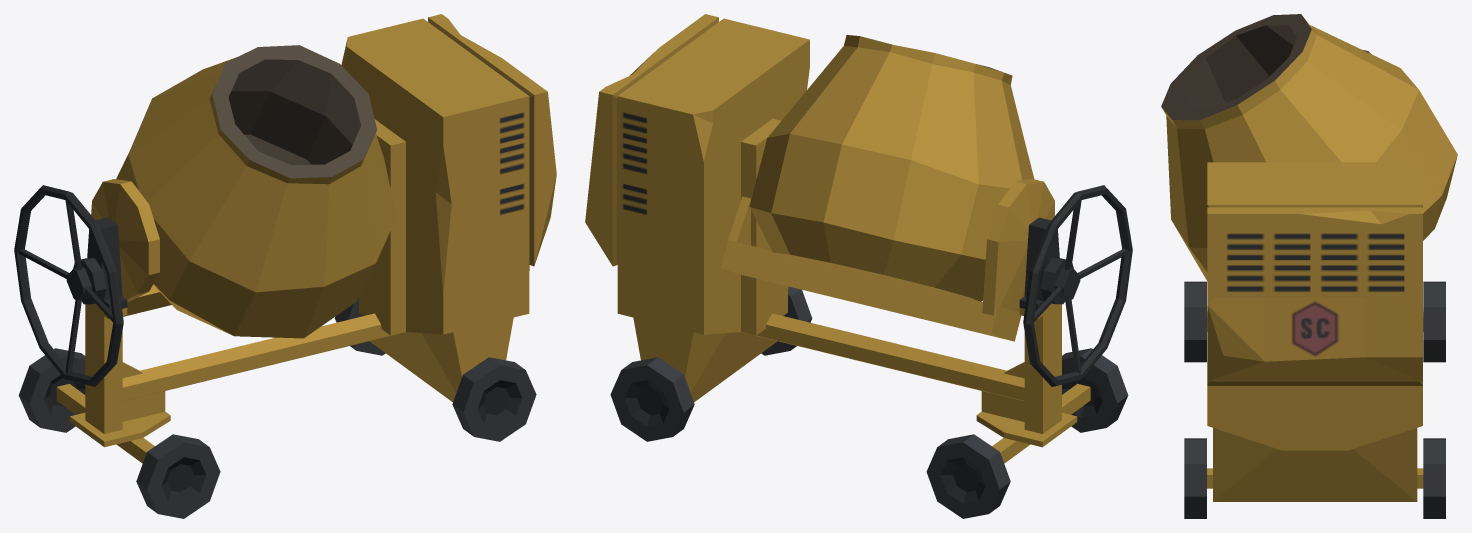
Rendered from SM_Prop_Concrete_Mixer_01.fbx.
The picture shows the model from 3 angles, left to right: view 1: azimuth 30°, elevation 25°; view 2: azimuth 150°, elevation 25°; view 3: azimuth 270°, elevation 25°; orthographic projection.
Parts seen in each view (by area): view 1: SM_Prop_Concrete_Mixer_01, SM_Prop_Concrete_Mixer_01_Bowl, SM_Prop_Concrete_Mixer_01_Wheel; view 2: SM_Prop_Concrete_Mixer_01, SM_Prop_Concrete_Mixer_01_Bowl, SM_Prop_Concrete_Mixer_01_Wheel; view 3: SM_Prop_Concrete_Mixer_01, SM_Prop_Concrete_Mixer_01_Bowl.
Boxes of the visible parts, x1,y1,x2,y2 form: SM_Prop_Concrete_Mixer_01: (18, 14, 556, 518); SM_Prop_Concrete_Mixer_01_Bowl: (91, 45, 396, 338); SM_Prop_Concrete_Mixer_01_Wheel: (14, 185, 123, 386); SM_Prop_Concrete_Mixer_01: (585, 14, 1128, 518); SM_Prop_Concrete_Mixer_01_Bowl: (721, 35, 1054, 341); SM_Prop_Concrete_Mixer_01_Wheel: (1023, 185, 1132, 386); SM_Prop_Concrete_Mixer_01: (1184, 162, 1445, 518); SM_Prop_Concrete_Mixer_01_Bowl: (1161, 14, 1457, 280).
Size of the model in its own units: 147 by 123 by 83.07.
